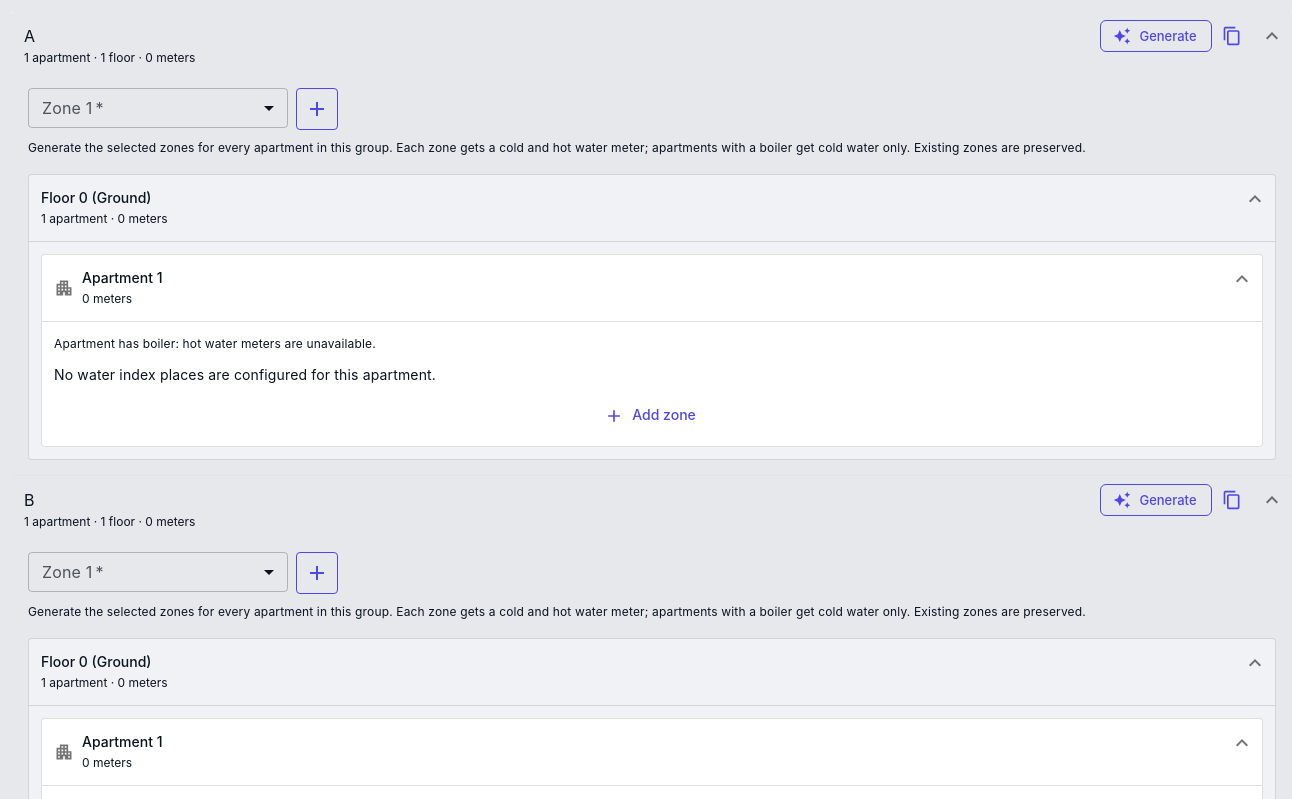
Scenario: counter setup zone selection › generates only for the selected stair and disables hot water in boiler apartments
Click the 1st dropdown.
click(158, 108)  # box [28,88,288,128]
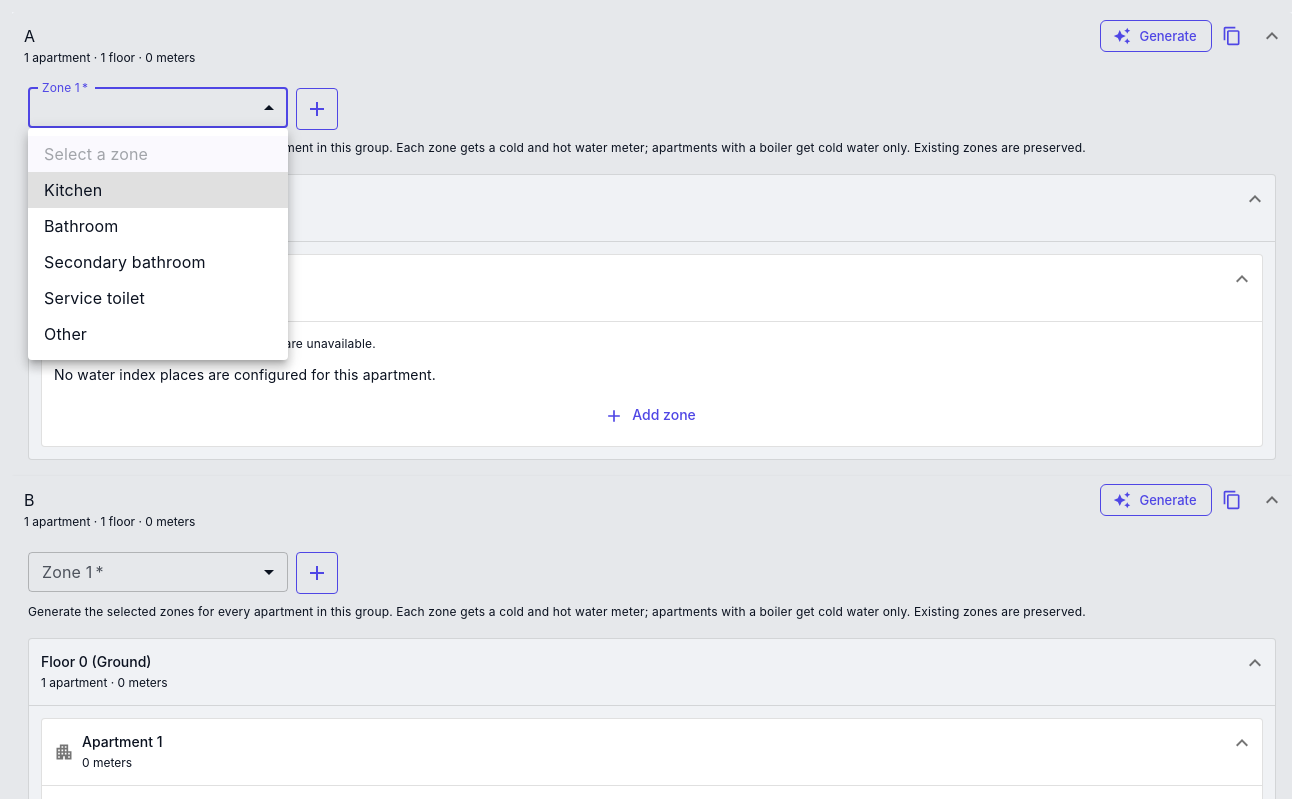
Click the option "Kitchen".
click(73, 190)  # box [28,172,288,208]
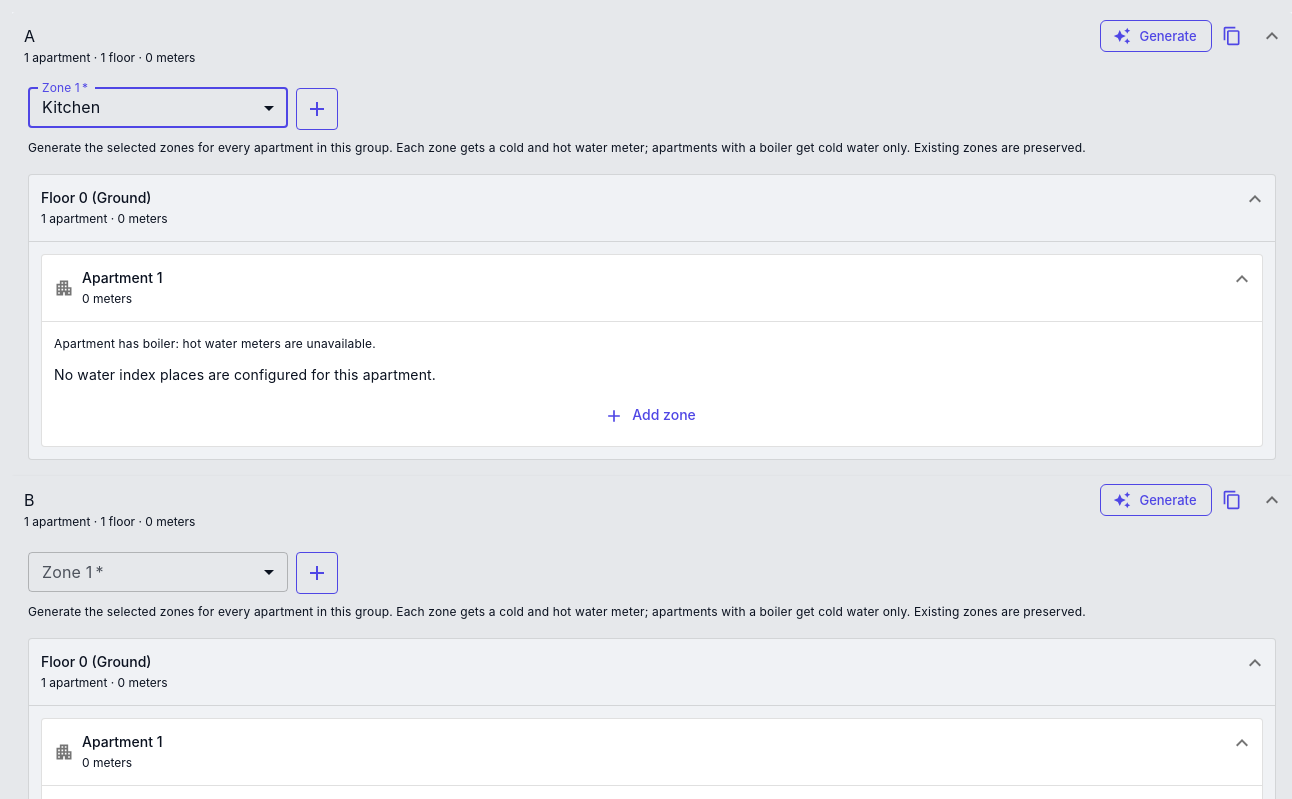
Click the button with aria-label "Generate meters for A".
click(1156, 36)  # box [1100,20,1212,52]
(page scrolled)
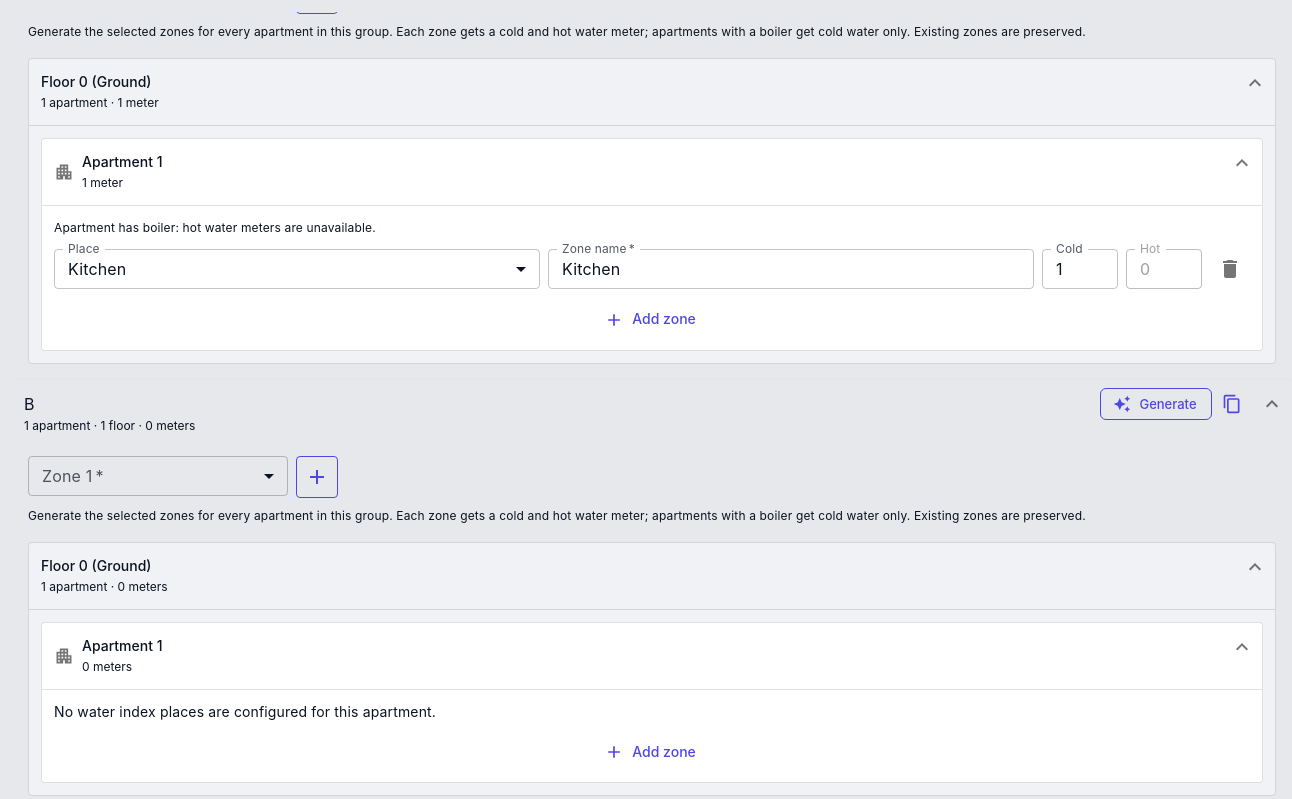
Now the number field labelled "Hot" is disabled, box [1126,250,1202,290]
Now the number field labelled "Hot" holds "0", box [1126,250,1202,290]
Now the number field labelled "Cold" holds "1", box [1042,250,1118,290]
